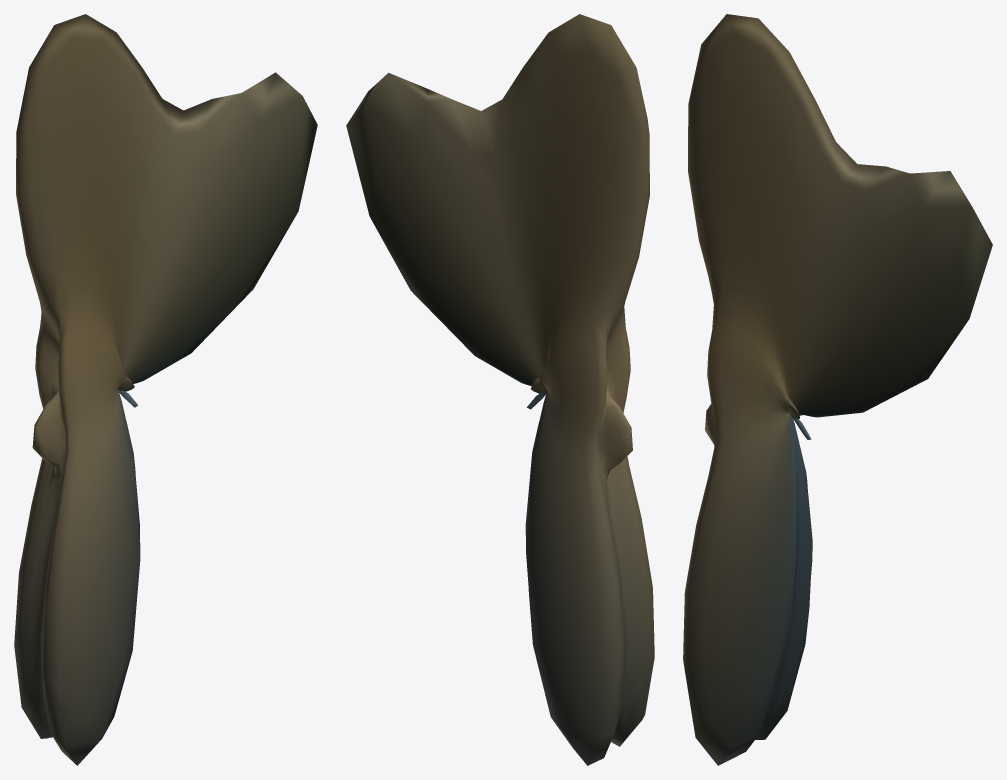
Rendered from Lantern_064B_sh.glb.
3 views of the same model, side by side, from view 1: azimuth 30°, elevation 25°; view 2: azimuth 150°, elevation 25°; view 3: azimuth 330°, elevation 25° (orthographic).
Size of the model in its own units: 0.9121 by 2.12 by 0.2535.
